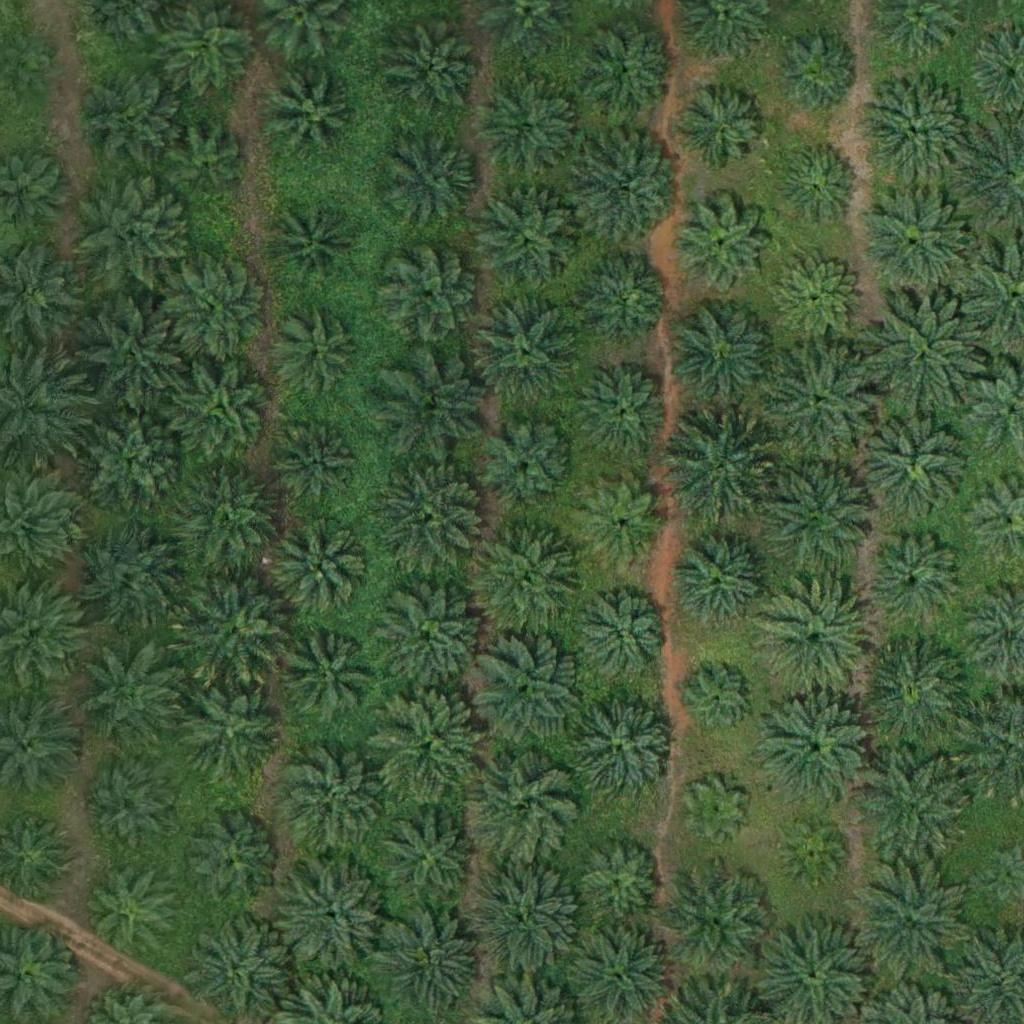Kelapa_Sawit: (471, 184, 584, 298), (571, 130, 684, 244), (668, 300, 781, 414), (660, 413, 773, 527), (77, 178, 190, 291), (377, 465, 490, 578), (372, 584, 485, 697), (666, 522, 779, 635), (758, 584, 871, 697), (857, 73, 970, 186), (858, 189, 971, 302), (851, 861, 964, 974), (760, 695, 873, 808), (465, 750, 578, 863), (469, 863, 582, 976), (370, 688, 483, 801), (372, 808, 485, 921), (766, 345, 878, 459), (763, 457, 875, 571), (860, 525, 972, 639), (857, 637, 969, 751), (278, 858, 390, 972), (74, 643, 186, 757), (77, 302, 189, 415), (74, 520, 186, 633), (178, 472, 290, 585), (377, 344, 489, 457), (470, 291, 582, 404), (467, 522, 579, 635), (867, 295, 979, 408), (861, 408, 973, 521), (860, 750, 972, 863), (661, 867, 773, 980), (569, 694, 681, 807), (469, 635, 581, 748), (373, 910, 485, 1023), (279, 742, 391, 855), (175, 576, 287, 689), (85, 74, 185, 175), (84, 415, 184, 516), (173, 260, 273, 361), (171, 357, 271, 458), (263, 199, 363, 300), (270, 517, 370, 618), (379, 240, 479, 341), (476, 411, 576, 512), (276, 626, 376, 727), (382, 19, 482, 119), (387, 127, 487, 227), (479, 75, 579, 175), (573, 249, 673, 349), (573, 363, 673, 463), (670, 195, 770, 295), (179, 685, 279, 785), (180, 815, 280, 915), (79, 858, 179, 958), (578, 595, 666, 683), (677, 86, 765, 174), (775, 140, 863, 228), (772, 254, 860, 342), (575, 835, 663, 923), (273, 420, 360, 509), (583, 25, 670, 113), (276, 307, 363, 395), (578, 479, 665, 567), (773, 28, 860, 116), (81, 766, 168, 854), (277, 80, 352, 156), (172, 125, 247, 200), (781, 822, 844, 885), (689, 668, 752, 731), (684, 779, 747, 842), (4, 31, 54, 82)
